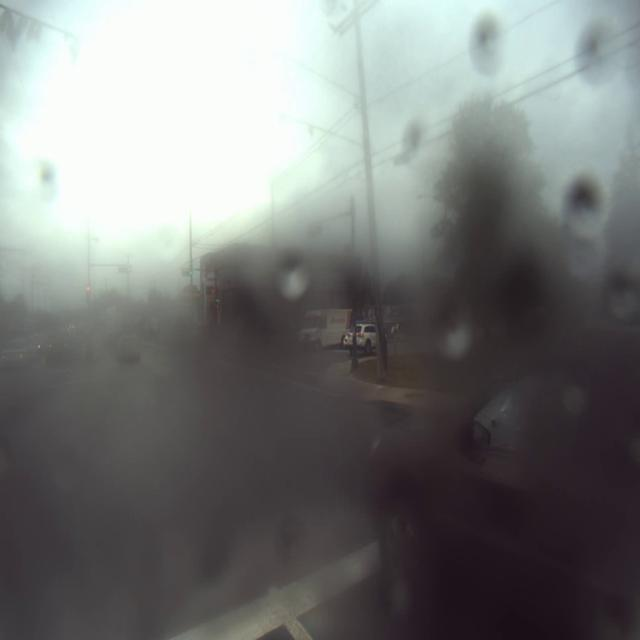car: (347, 319, 385, 354), (115, 330, 142, 362)
